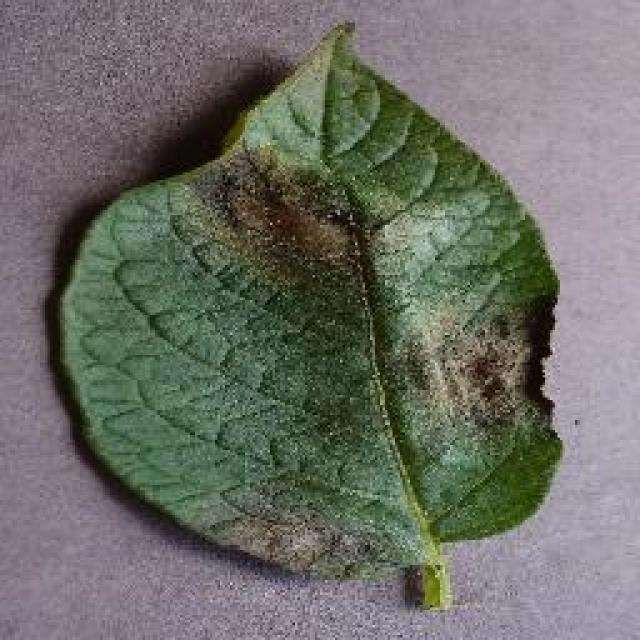late_blight: (50, 18, 568, 608)
